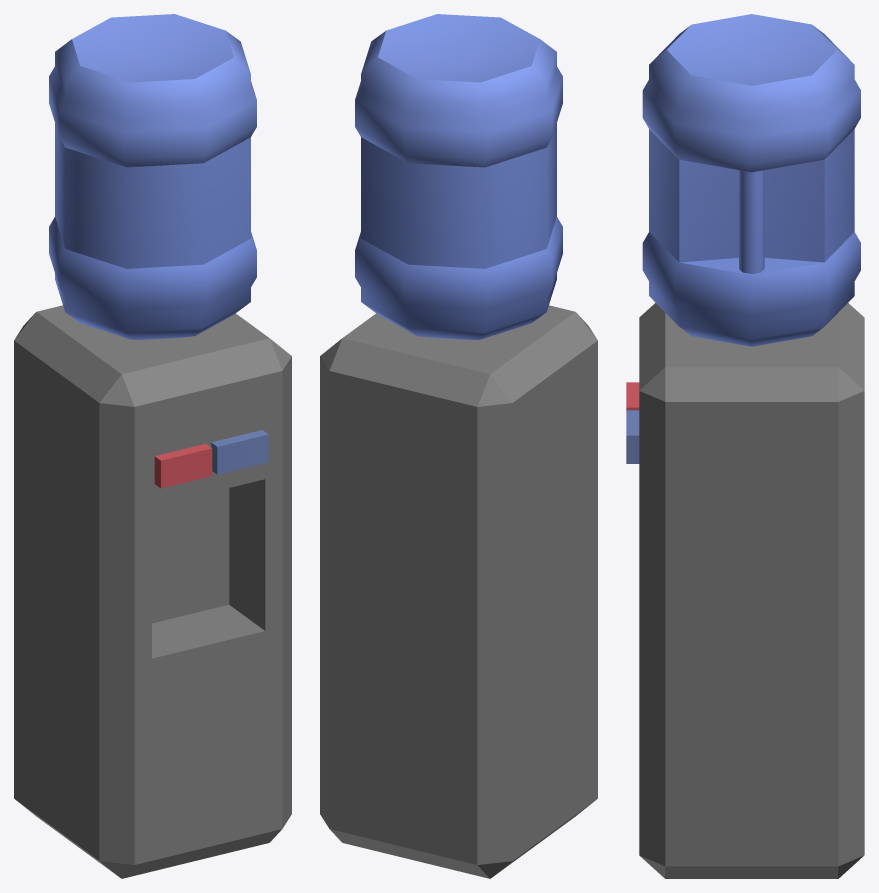
File: waterdispenser.fbx
The picture shows the model from 3 angles, left to right: view 1: azimuth 30°, elevation 25°; view 2: azimuth 150°, elevation 25°; view 3: azimuth 270°, elevation 25°; orthographic projection.
Parts seen in each view (by area): view 1: waterdispenser; view 2: waterdispenser; view 3: waterdispenser.
Boxes of the visible parts, x1=… form: waterdispenser: x1=14, y1=14, x2=291, y2=878; waterdispenser: x1=320, y1=14, x2=597, y2=878; waterdispenser: x1=626, y1=14, x2=864, y2=878.
Size of the model in its own units: 28.6 by 111 by 30.22.
